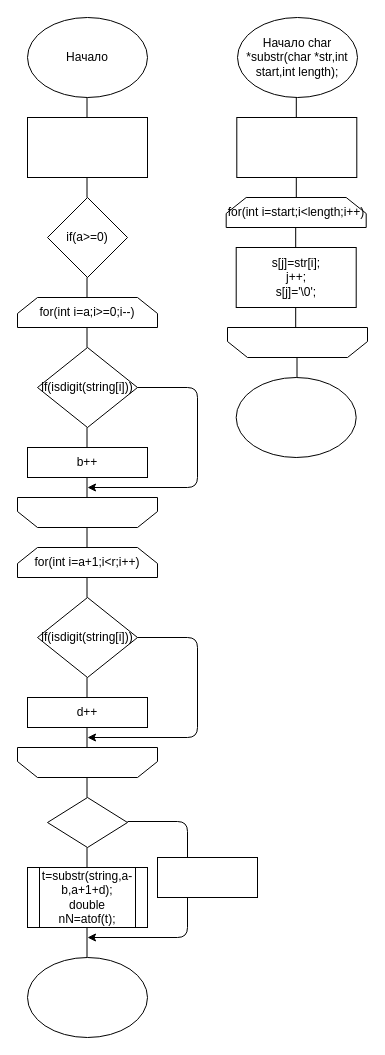
Some shapes in this 385 by 1055 pixel diagram are drawn without their labels. Each missing label, with the box of its shape:
char *s; s=new char[length+1]; int j=0;: (236, 116, 357, 178)
if(bD): (46, 796, 128, 848)
int a,b,c,d,r; char string[80]; char *t;: (26, 116, 148, 178)
В строке нет числа: (156, 856, 258, 898)
Конец: (26, 956, 148, 1038)
Конец char *substr(char *str,int start,int length);: (235, 376, 356, 458)
